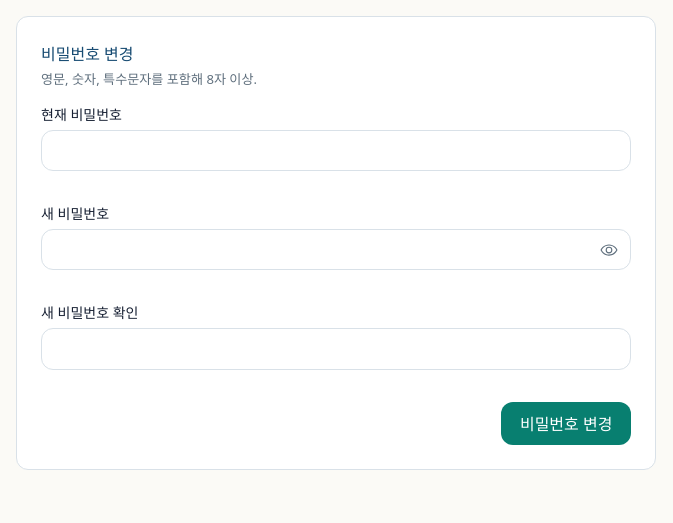
Test: PasswordChangeForm › 현재 비밀번호와 새 비밀번호를 함께 보낸다
The width and height of the screenshot is (673, 523).
Type "Old1234!" into the password field labelled "현재 비밀번호" at (336, 150), box [41,130,631,171]
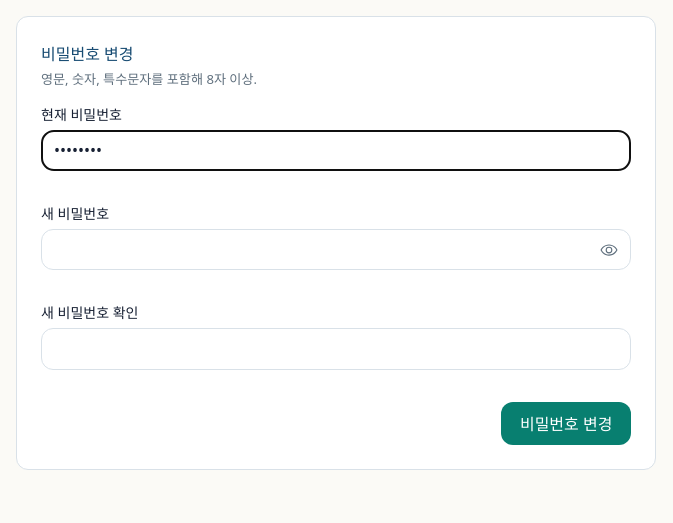
Type "New1234!" into the password field labelled "새 비밀번호" at (336, 250), box [41,229,631,270]
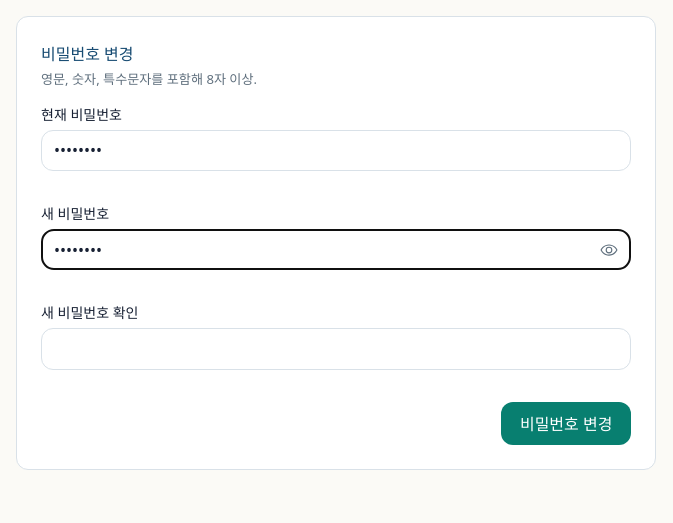
Type "New1234!" into the password field labelled "새 비밀번호 확인" at (336, 349), box [41,328,631,370]
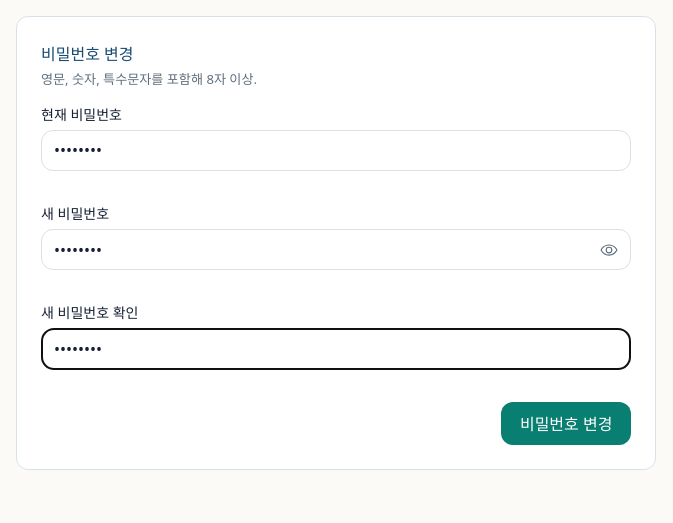
Click the button "비밀번호 변경" at (566, 423), box [501,402,631,445]
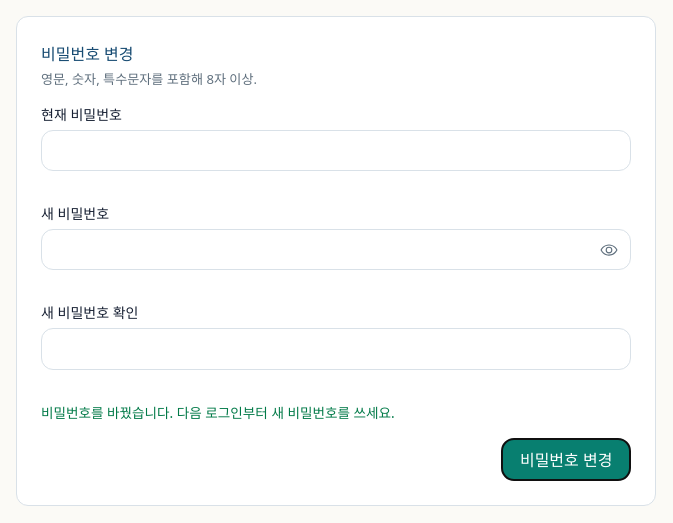
Expected: the message shows "비밀번호를 바꿨습니다", [41,403,395,422]
Expected: the password field labelled "현재 비밀번호" is empty, [41,130,631,171]
